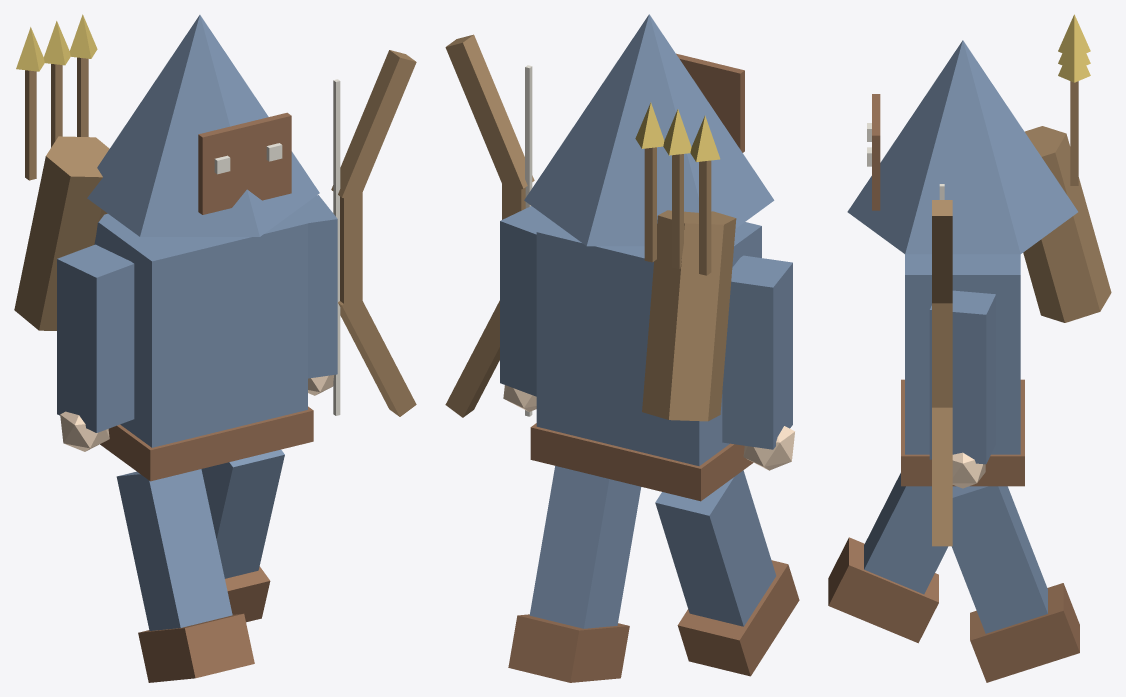
The model's file is npcpose_archer_walk_10.glb.
3 renders of one model, left to right at view 1: azimuth 30°, elevation 25°; view 2: azimuth 150°, elevation 25°; view 3: azimuth 270°, elevation 25°, orthographic. The views are drawn at different scales.
Visible parts, largest first — view 1: npcpose; view 2: npcpose; view 3: npcpose.
Part boxes in pixels (bbox=[...]): npcpose: bbox=[14, 14, 416, 682]; npcpose: bbox=[445, 14, 799, 682]; npcpose: bbox=[828, 14, 1111, 682].
Bounding box in the file's own units: 0.9089 × 1.63 × 0.6857.
